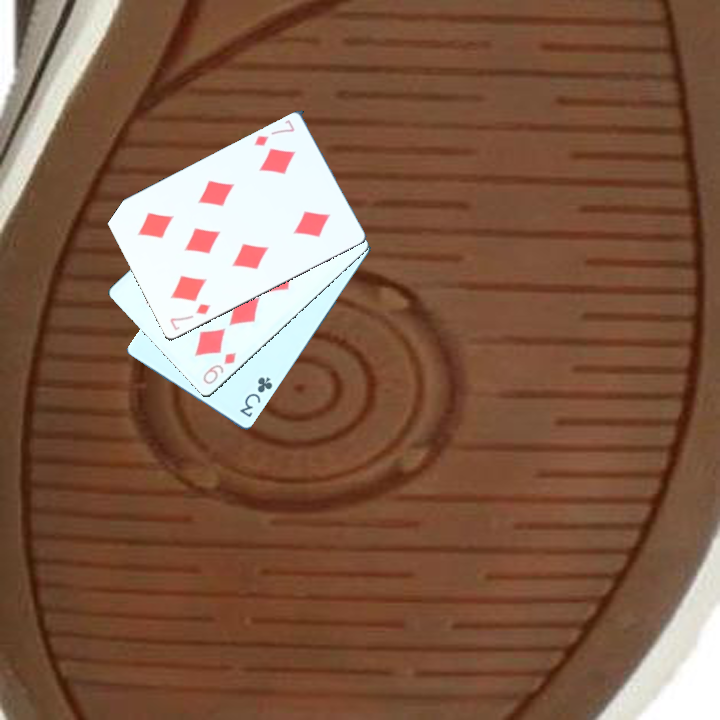3c: (235, 373, 275, 420)
7d: (166, 299, 213, 333), (250, 116, 297, 149)
9d: (199, 348, 239, 387)
